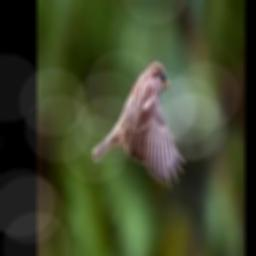Sparrow: (93, 60, 185, 187)
